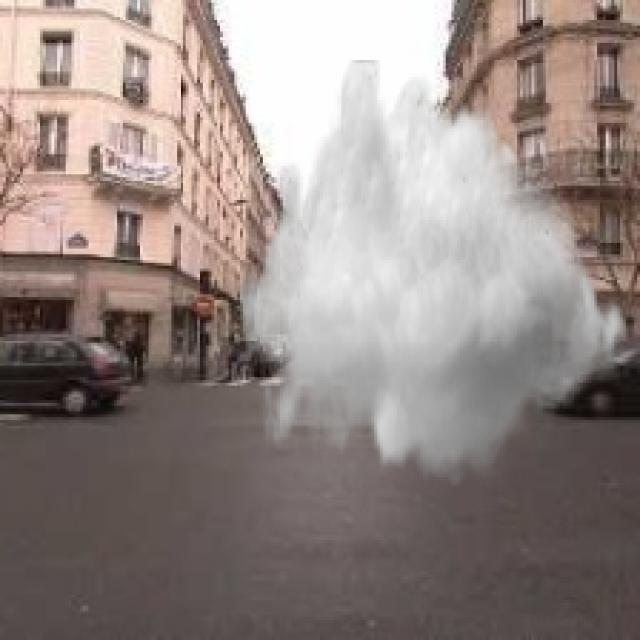Smoke: (240, 60, 634, 486)
